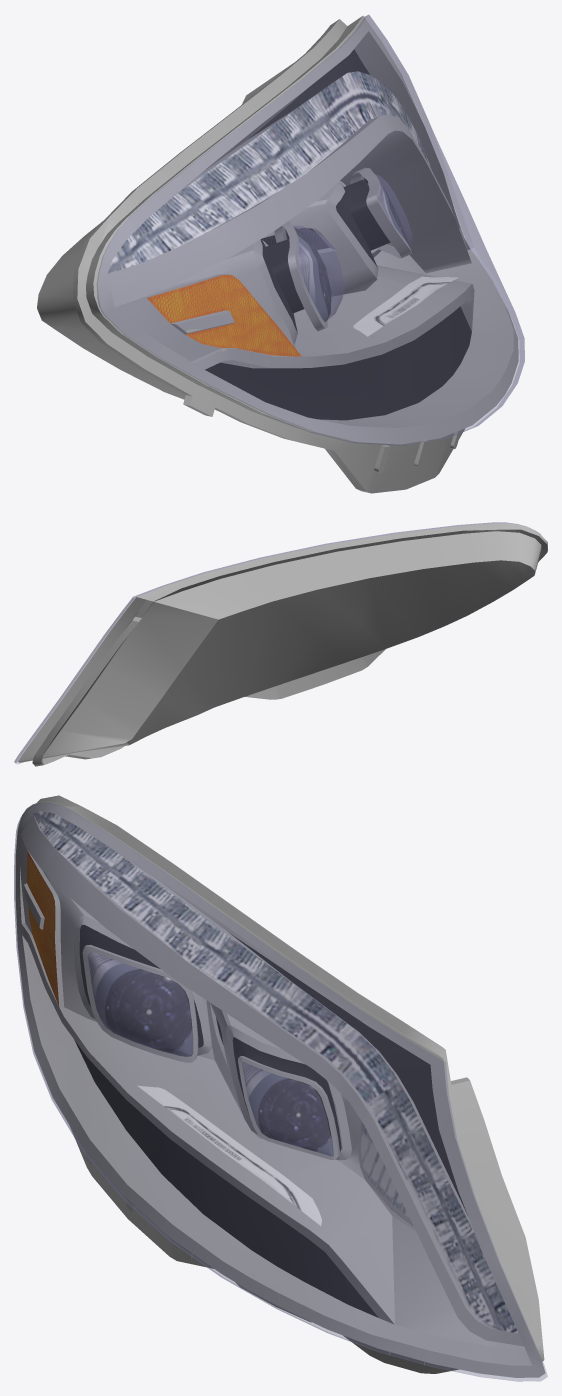
3 views of the same model, one above another, from view 1: azimuth 30°, elevation 25°; view 2: azimuth 150°, elevation 25°; view 3: azimuth 270°, elevation 25° (orthographic). The views are drawn at different scales.
Parts seen in each view (by area): view 1: X3088_061B_R_X3088_061B_R_1_DTaSI, X3088_061B_R_X3088_061B_R_3_N, X3088_061B_R_X3088_061B_R_10_N, X3088_061B_R_X3088_061B_R_2_N, X3088_061B_R_9_N_X3088_061B_R, X3088_061B_R_X3088_061B_R_5_N, X3088_061B_R_X3088_061B_R_8_N, X3088_061B_R_X3088_061B_R_6_N, X3088_061B_R_X3088_061B_R_4_N; view 2: X3088_061B_R_X3088_061B_R_3_N, X3088_061B_R_X3088_061B_R_1_DTaSI; view 3: X3088_061B_R_X3088_061B_R_1_DTaSI, X3088_061B_R_X3088_061B_R_3_N, X3088_061B_R_X3088_061B_R_2_N, X3088_061B_R_X3088_061B_R_10_N, X3088_061B_R_X3088_061B_R_6_N, X3088_061B_R_X3088_061B_R_5_N, X3088_061B_R_X3088_061B_R_7_N, X3088_061B_R_X3088_061B_R_4_N, X3088_061B_R_X3088_061B_R_8_N, X3088_061B_R_9_N_X3088_061B_R, X3088_061B_R_X3088_061B_R_11_N.
Part boxes in pixels (x1,y1,x2,y2): X3088_061B_R_X3088_061B_R_1_DTaSI: (97,15,524,445); X3088_061B_R_X3088_061B_R_3_N: (37,16,518,493); X3088_061B_R_X3088_061B_R_10_N: (205,49,471,420); X3088_061B_R_X3088_061B_R_2_N: (108,71,431,273); X3088_061B_R_9_N_X3088_061B_R: (147,274,301,356); X3088_061B_R_X3088_061B_R_5_N: (285,225,344,321); X3088_061B_R_X3088_061B_R_8_N: (353,276,458,336); X3088_061B_R_X3088_061B_R_6_N: (286,227,331,321); X3088_061B_R_X3088_061B_R_4_N: (364,174,412,247); X3088_061B_R_X3088_061B_R_3_N: (18,523,547,766); X3088_061B_R_X3088_061B_R_1_DTaSI: (14,522,525,764); X3088_061B_R_X3088_061B_R_1_DTaSI: (14,802,547,1381); X3088_061B_R_X3088_061B_R_3_N: (15,795,545,1377); X3088_061B_R_X3088_061B_R_2_N: (33,811,518,1333); X3088_061B_R_X3088_061B_R_10_N: (74,925,467,1317); X3088_061B_R_X3088_061B_R_6_N: (88,952,193,1056); X3088_061B_R_X3088_061B_R_5_N: (88,952,192,1056); X3088_061B_R_X3088_061B_R_7_N: (242,1061,333,1156); X3088_061B_R_X3088_061B_R_4_N: (242,1062,332,1155); X3088_061B_R_X3088_061B_R_8_N: (137,1085,321,1225); X3088_061B_R_9_N_X3088_061B_R: (26,851,58,1005); X3088_061B_R_X3088_061B_R_11_N: (358,1119,413,1226).
Bounding box in the file's own units: 49.43 × 28.53 × 39.91.
